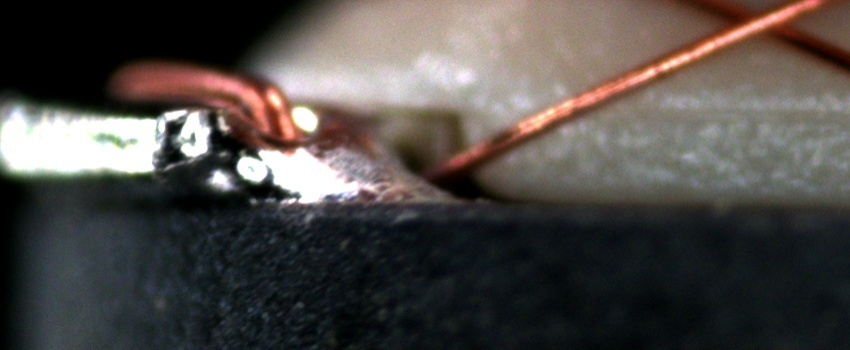CL: (703, 3, 811, 45)
DL: (617, 83, 850, 147)
TE: (110, 59, 307, 143)
